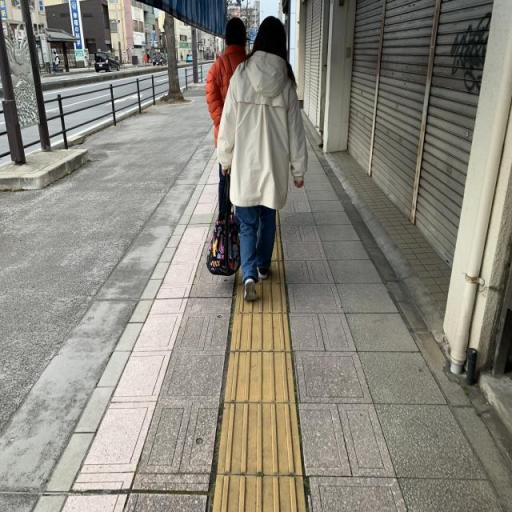line: (217, 401, 304, 476), (224, 351, 295, 404), (232, 313, 291, 352)
